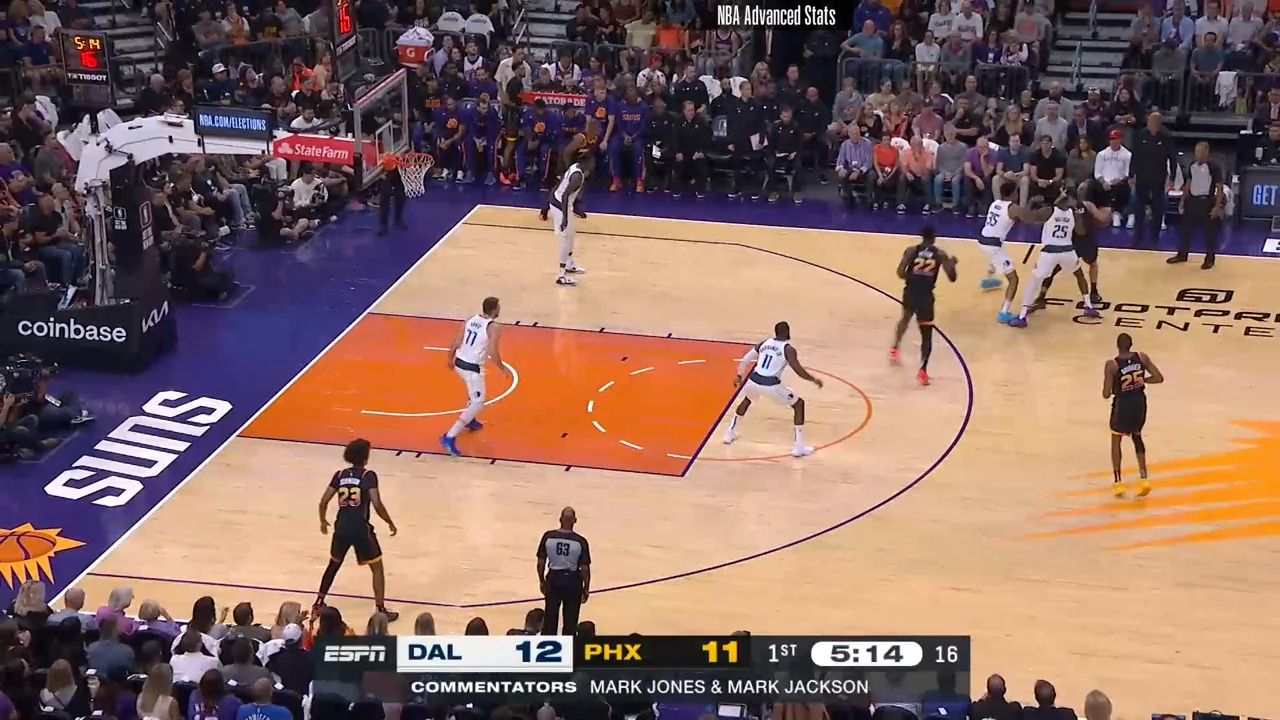net: (387, 143, 437, 199)
player: (304, 436, 399, 622), (722, 321, 832, 465), (436, 290, 517, 458), (1007, 186, 1088, 334), (884, 226, 957, 389), (1097, 333, 1169, 497), (550, 146, 605, 297), (978, 182, 1025, 297), (1072, 182, 1106, 307)
referee: (534, 507, 594, 636), (1165, 137, 1221, 272)
